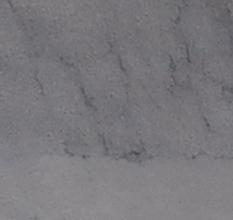fissura: (34, 5, 233, 164)
